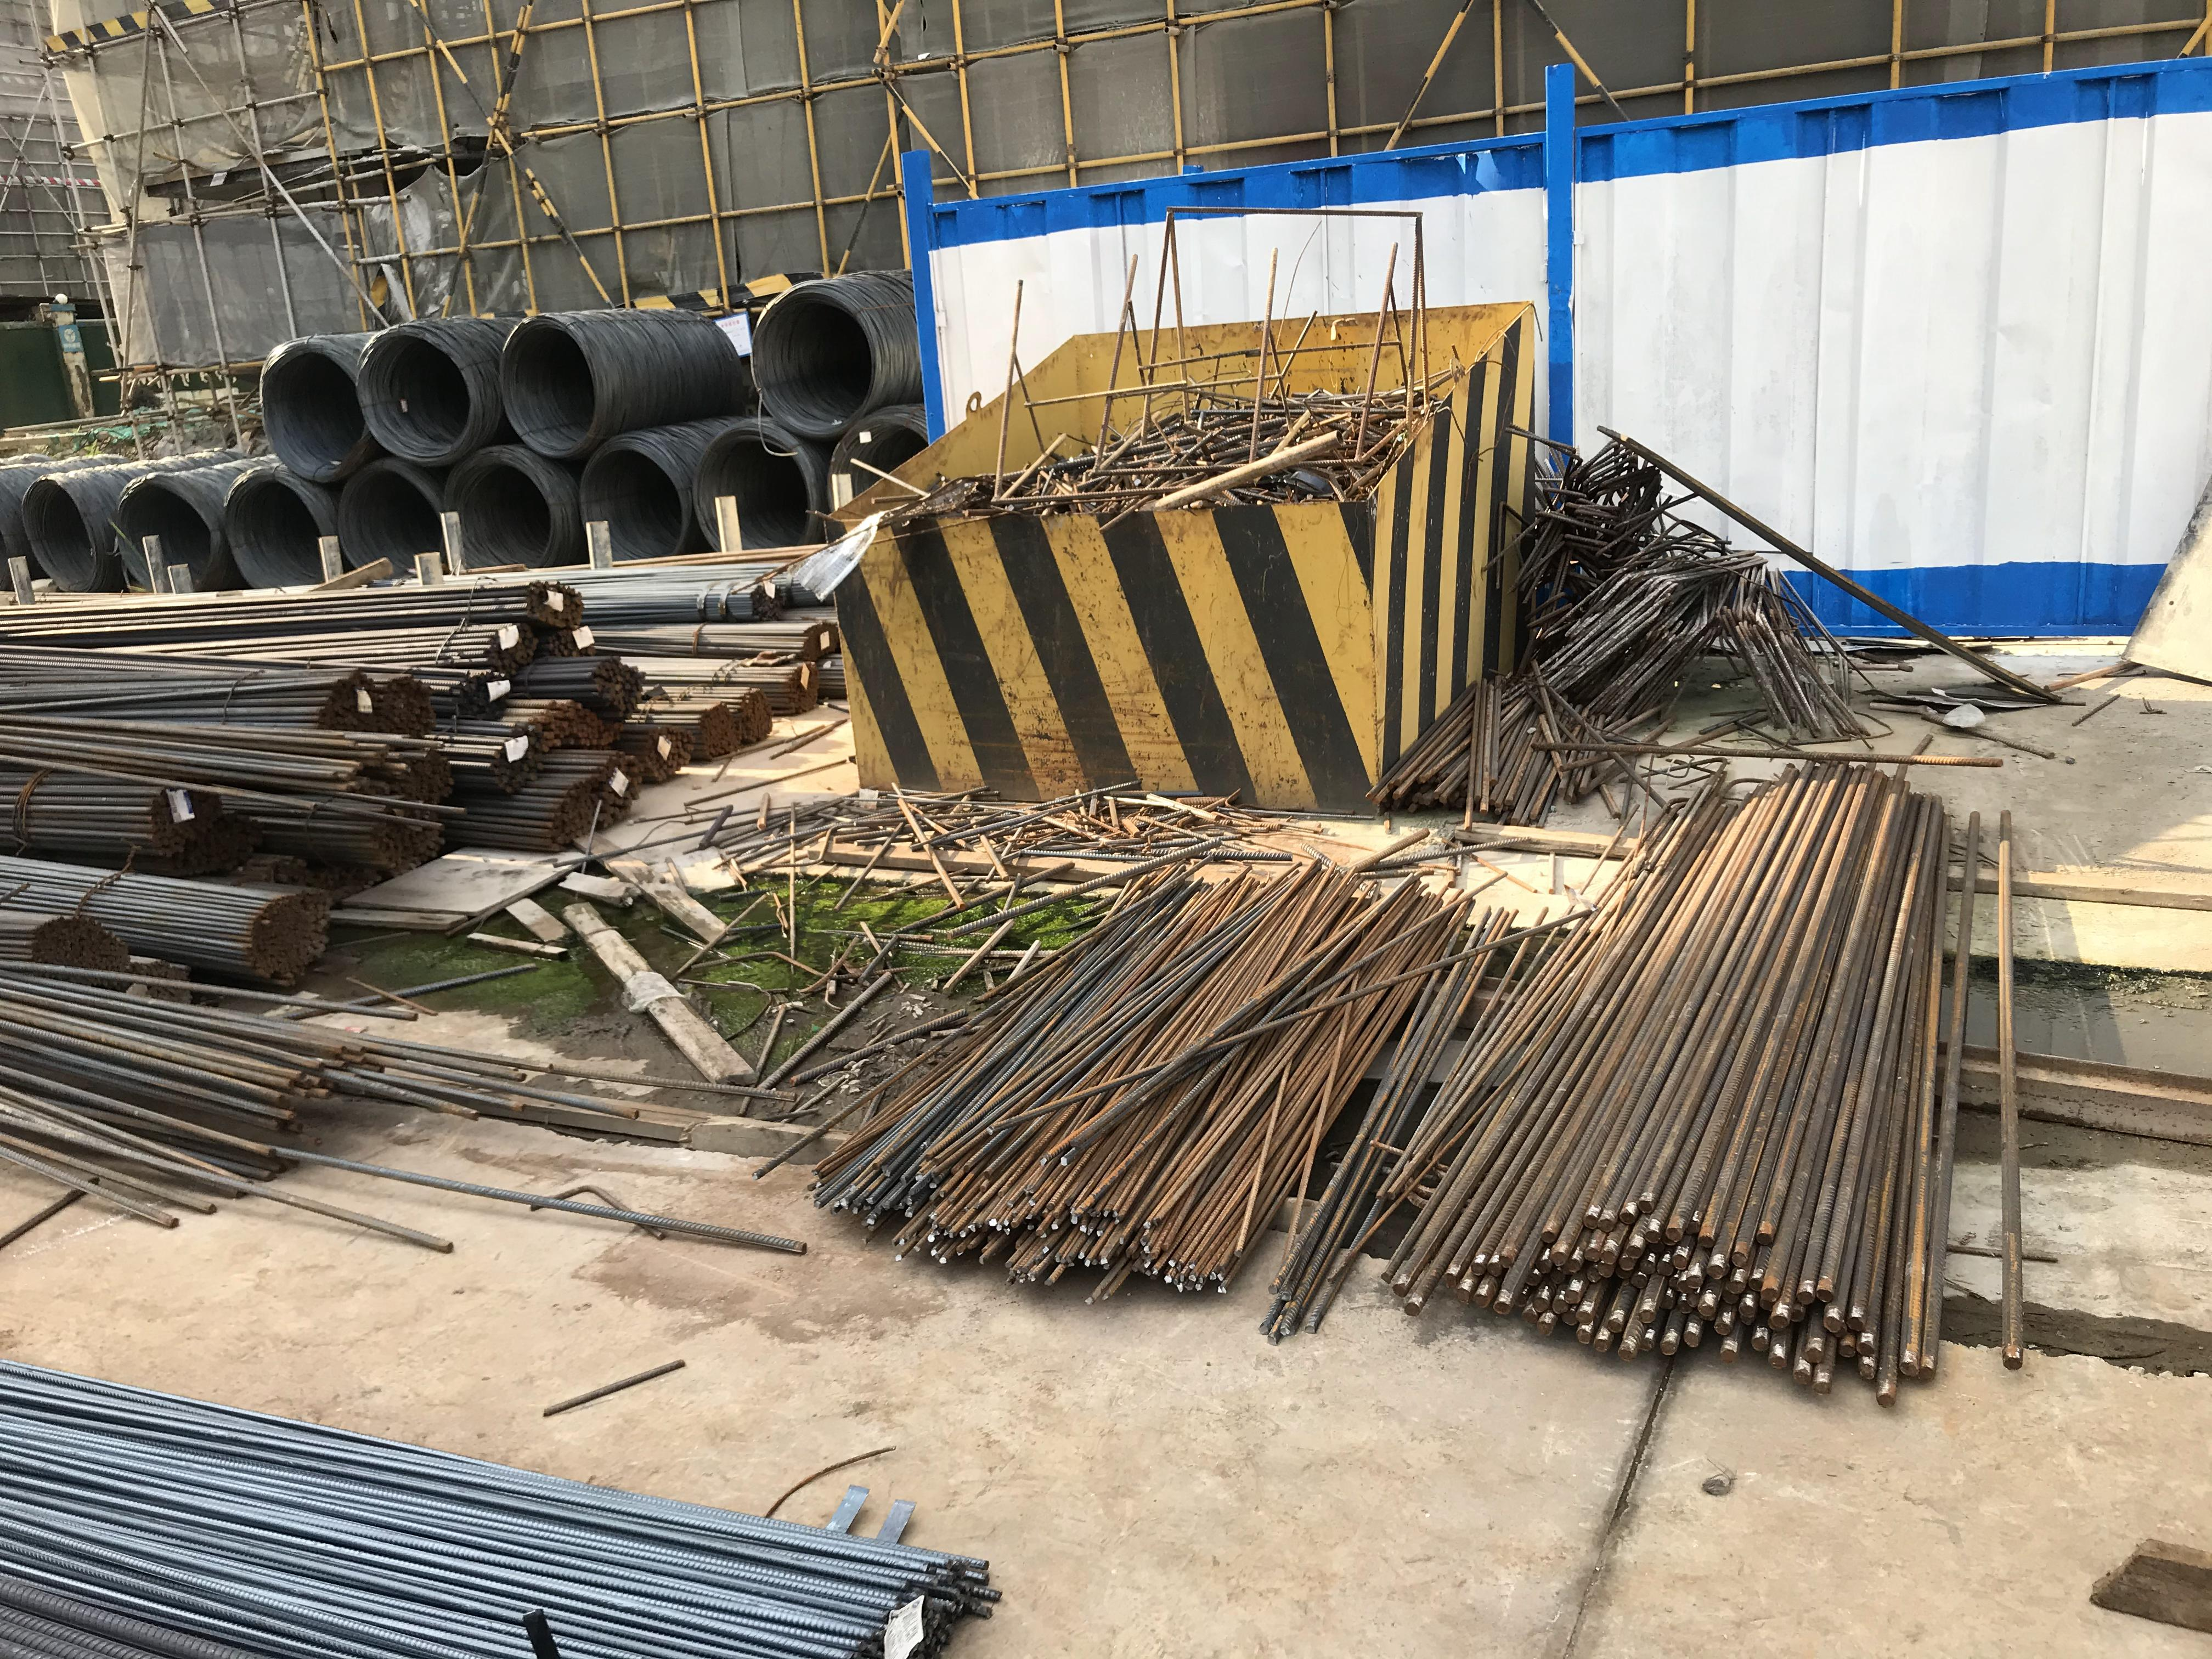hopper: (829, 293, 1543, 819)
